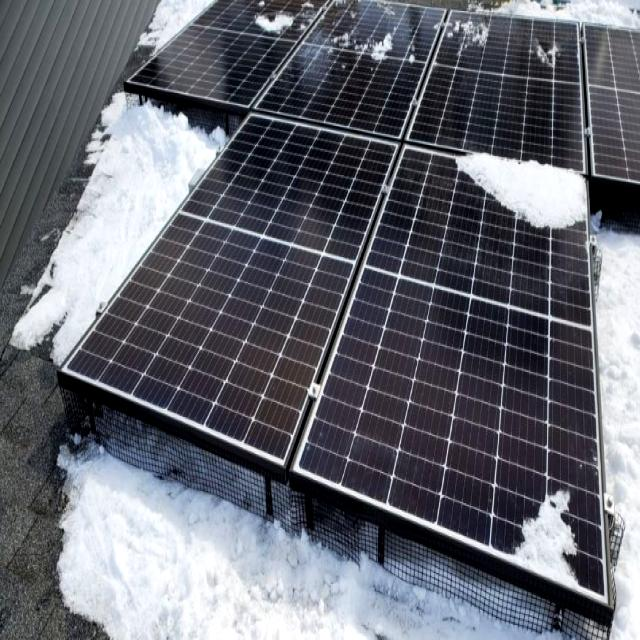panel: (454, 132, 589, 270), (511, 452, 596, 626), (327, 0, 428, 81), (427, 2, 499, 66), (245, 0, 318, 54), (528, 37, 564, 90)
